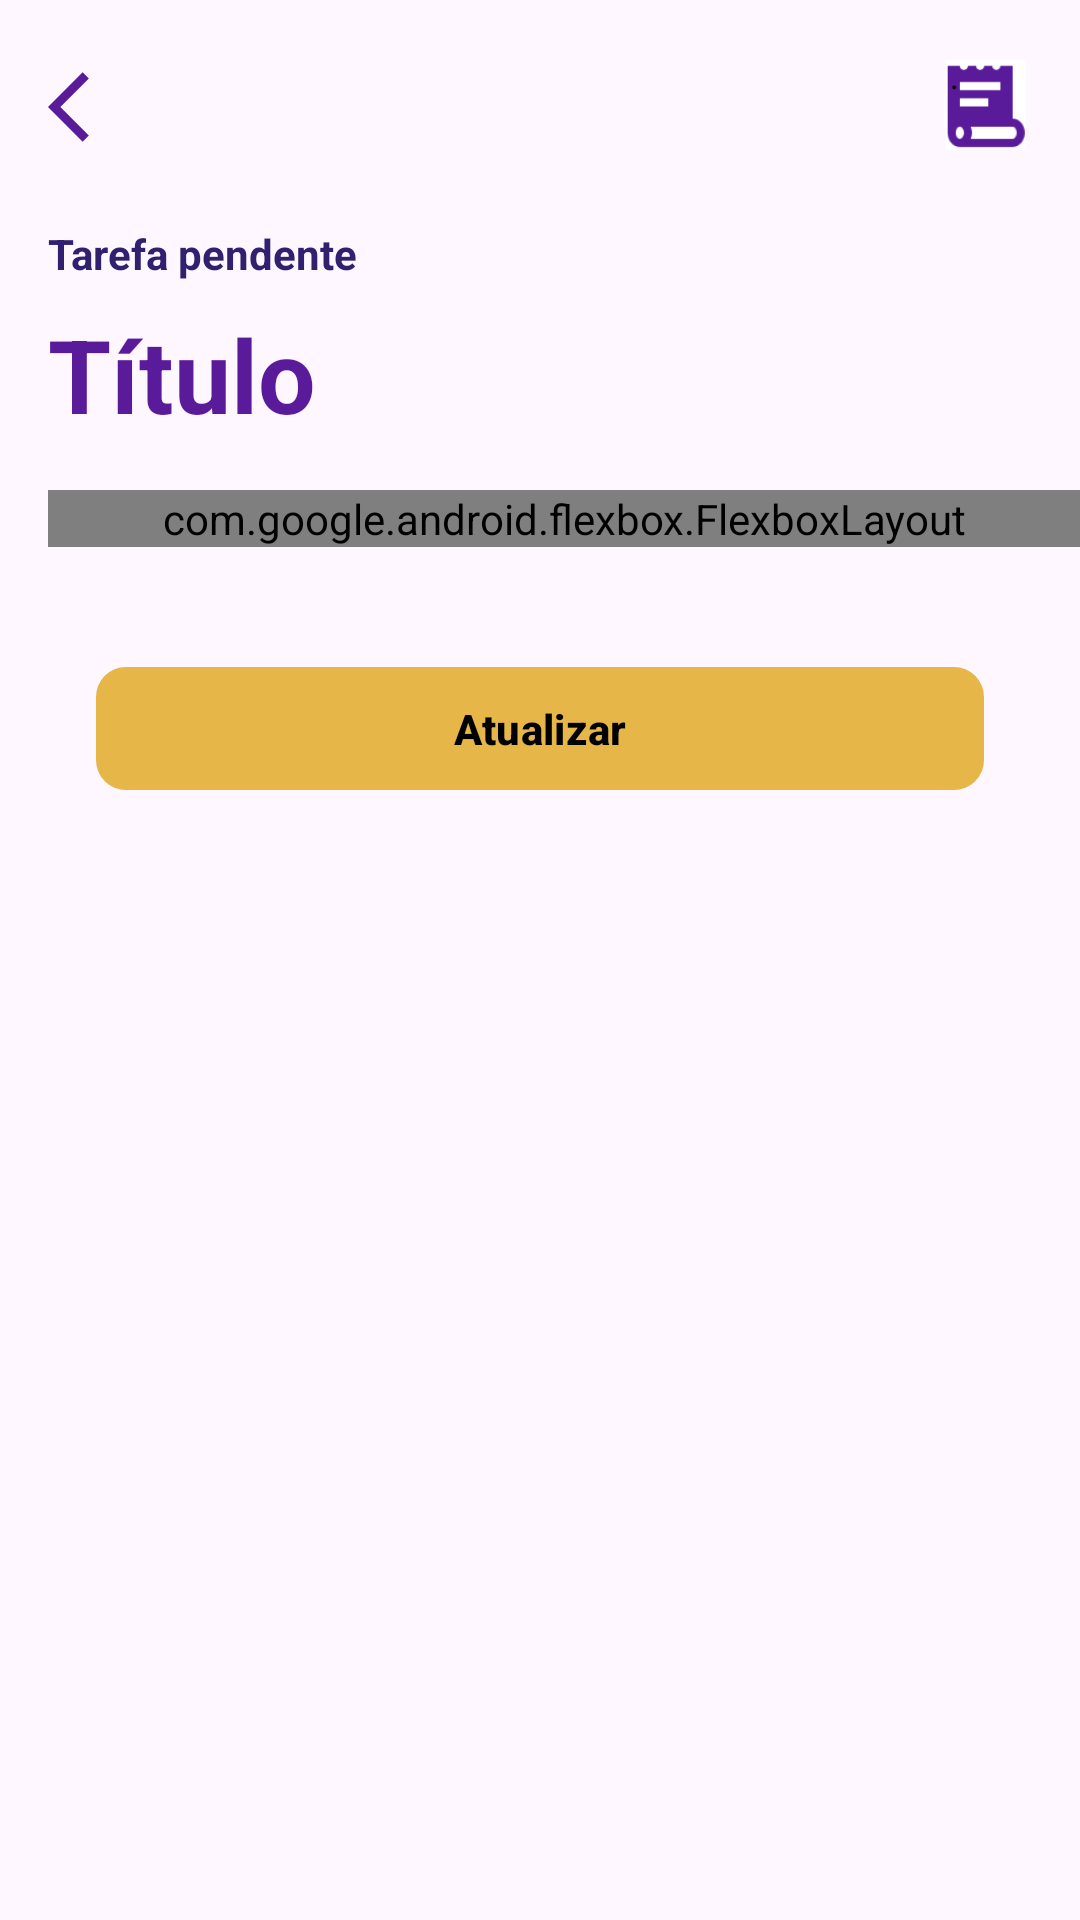

Icon bounding boxes for this 1080px×1920px phone screenshot, format (x1, y1, x2, y2):
arrow back: (48, 72, 89, 142)
historico: (947, 65, 1025, 148)
